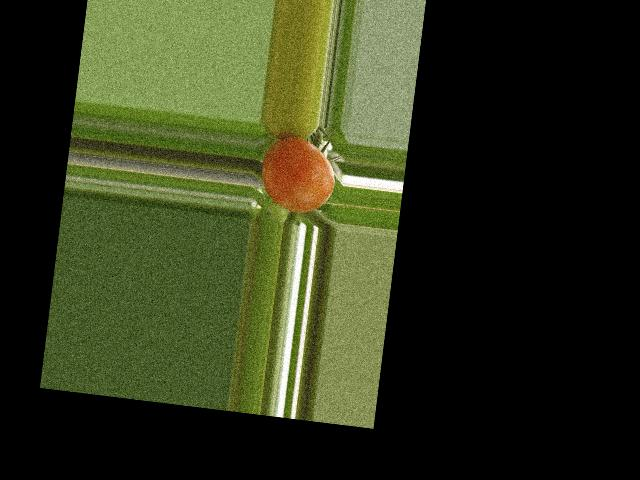tomato: (257, 133, 339, 216)
